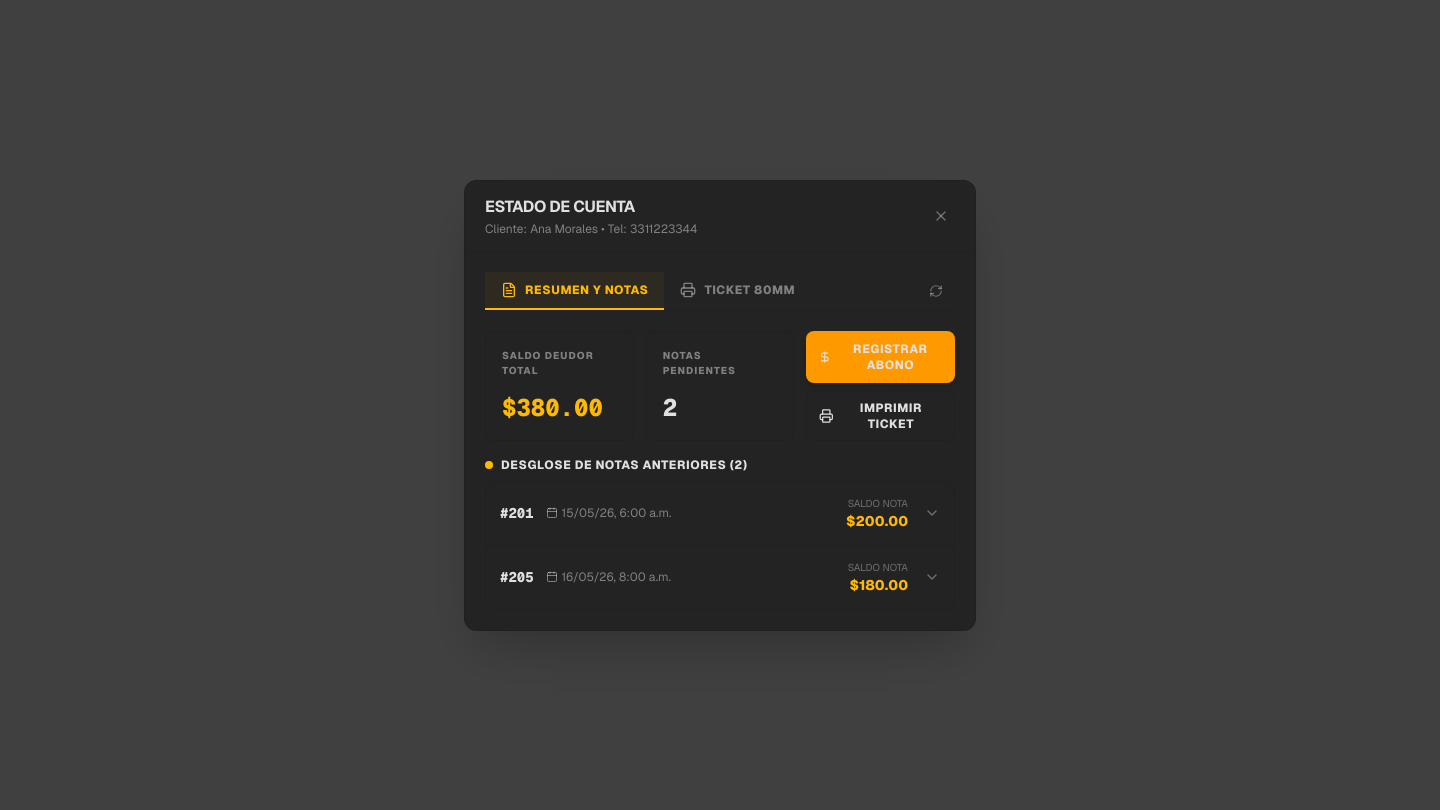
Scenario: CustomerAccountModal Component › switches to ticket tab and back to summary
This screenshot has width=1440, height=810.
expect the text "#201" is shown: met, box [500,503,534,523]
Click the button "Ticket 80mm": coordinates (738, 290) [664,272,811,310]
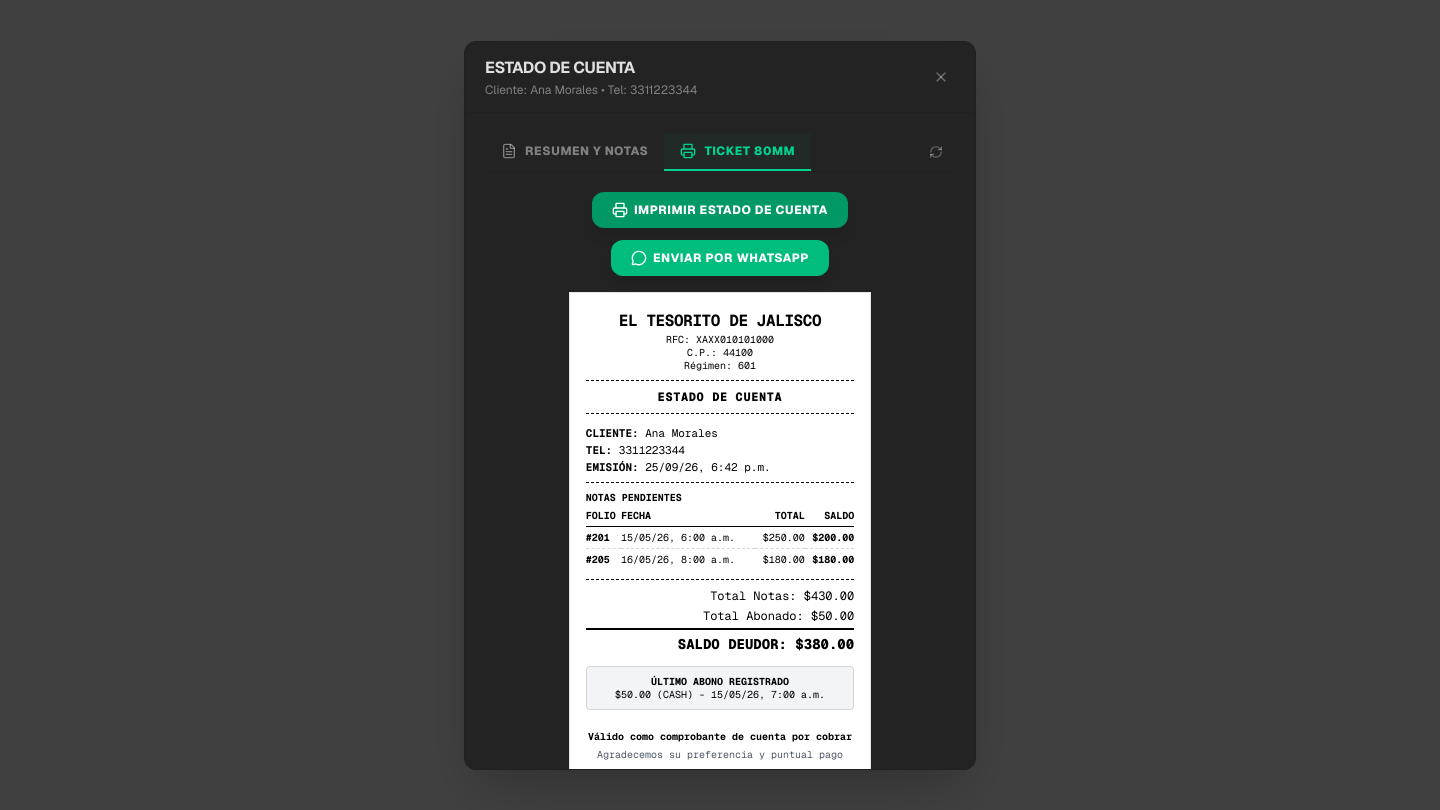
expect the element with test id "account-ticket-container" is shown: met, box [569,292,871,768]
Click the button "Resumen y Notas": coordinates (575, 152) [485,132,664,170]
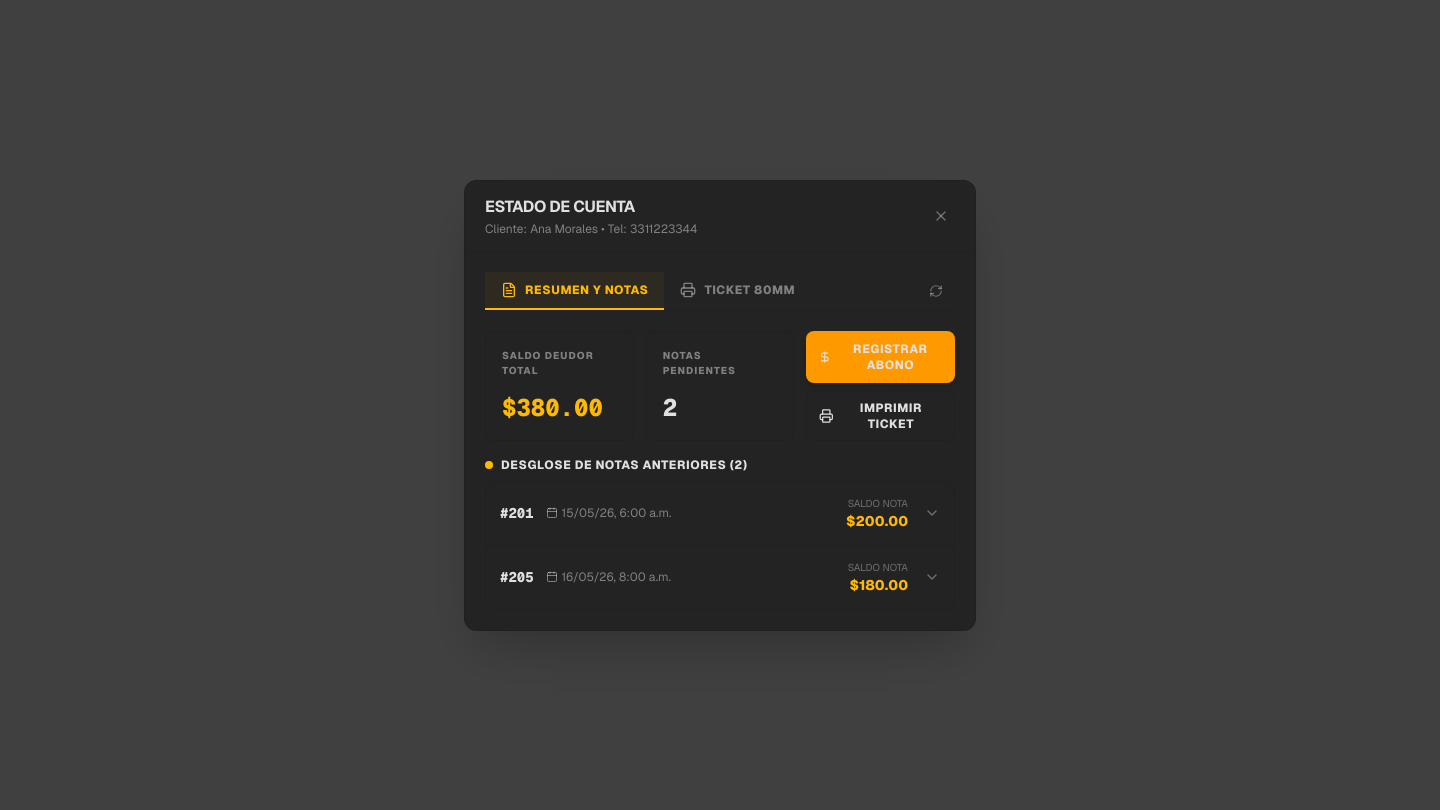
expect the heading "Desglose de Notas Anteriores (2)" is shown: met, box [485,456,748,472]
